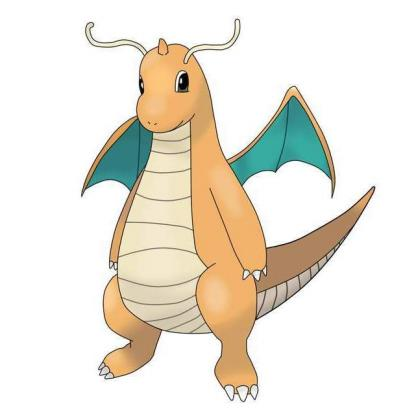Dragonite: (45, 10, 403, 412)
